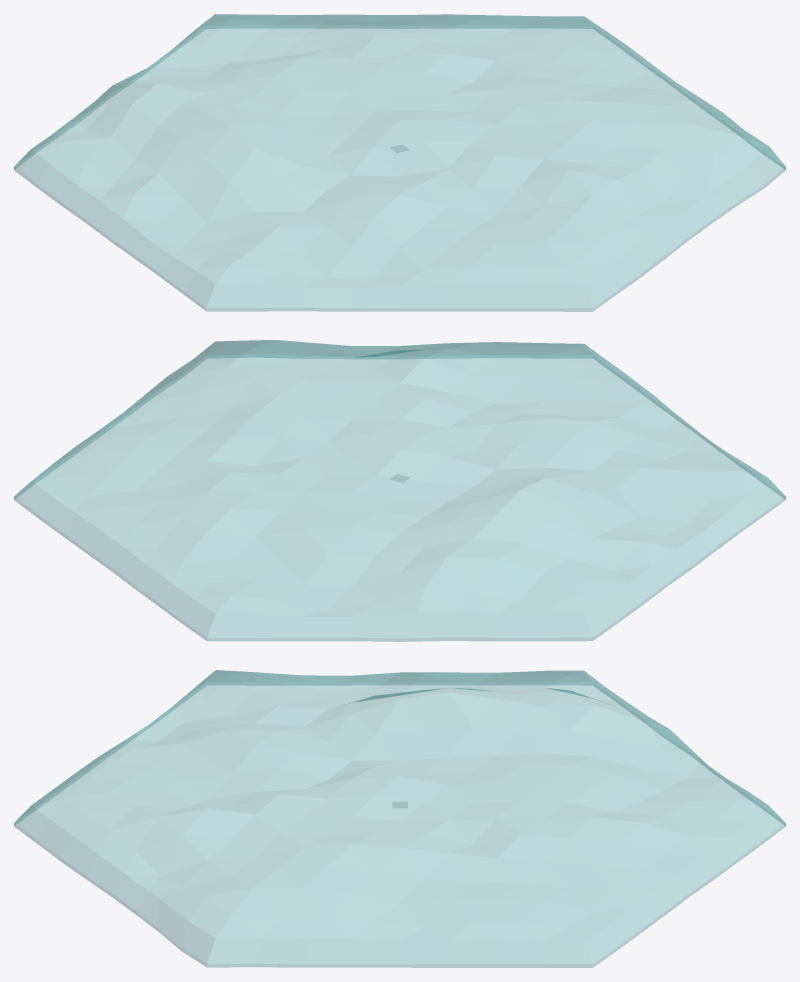
Rendered from ocean.glb.
3 renders of one model, top to bottom at view 1: azimuth 30°, elevation 25°; view 2: azimuth 150°, elevation 25°; view 3: azimuth 270°, elevation 25°, orthographic.
Parts seen in each view (by area): view 1: land; view 2: land; view 3: land.
Part boxes in pixels (x1,y1,x2,y2): land: [14, 14, 785, 311]; land: [14, 340, 785, 641]; land: [14, 670, 785, 967].
Bounding box in the file's own units: 1.73 × 0.1808 × 2.
